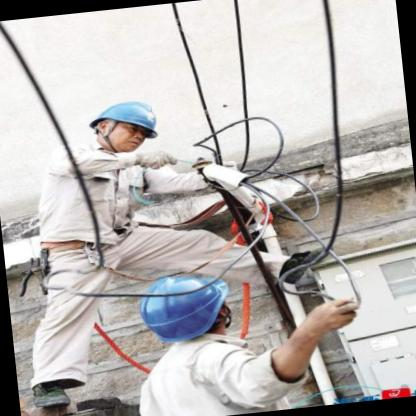helmet: (122, 264, 246, 350), (76, 88, 176, 160)
